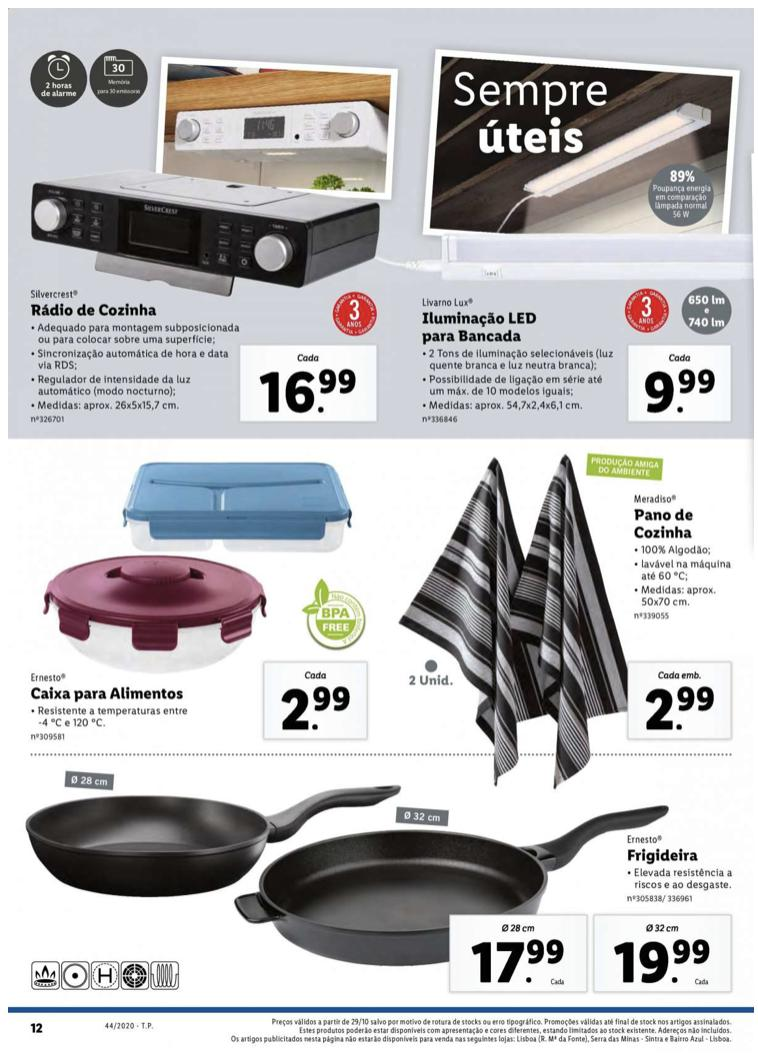name: (417, 309, 542, 346), (26, 682, 194, 704), (26, 298, 162, 323), (630, 502, 706, 544), (622, 841, 712, 865)
price: (247, 352, 369, 423), (604, 933, 729, 994), (630, 345, 731, 419), (466, 933, 577, 988), (642, 679, 727, 737), (275, 678, 359, 736)
product: (22, 794, 744, 1002), (22, 29, 398, 428), (410, 38, 742, 434), (18, 449, 389, 777), (389, 434, 742, 777)
